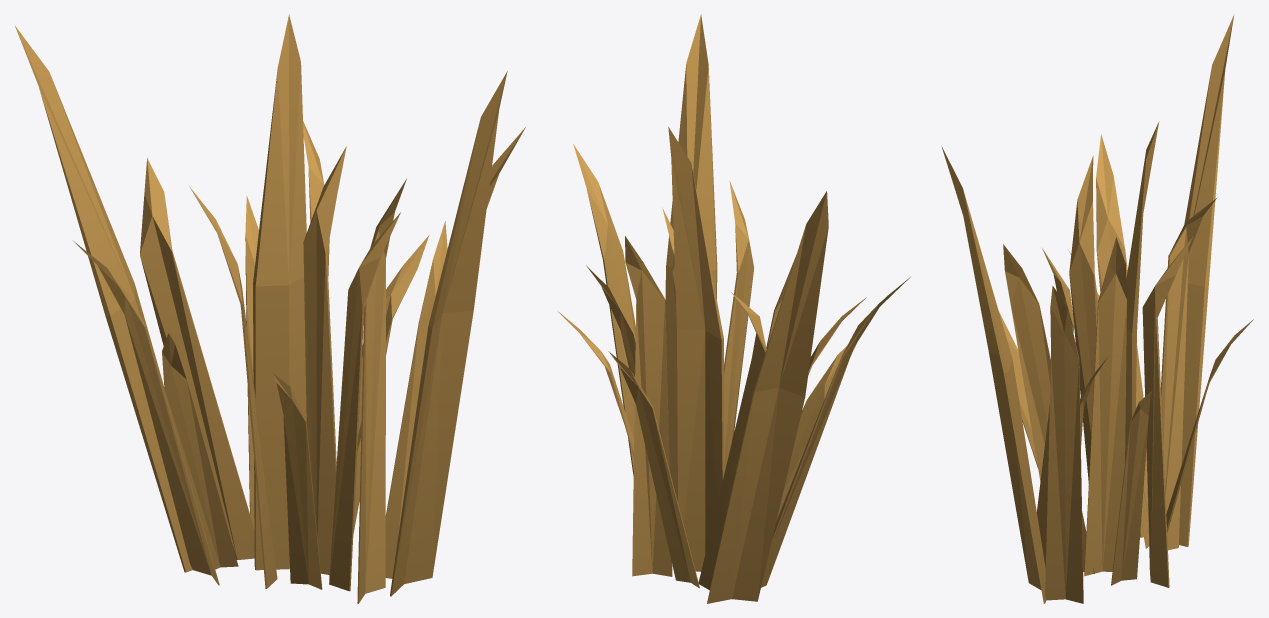
Rendered from Env_Grass_Patch_Yellow_04.obj.
3 renders of one model, left to right at view 1: azimuth 30°, elevation 25°; view 2: azimuth 150°, elevation 25°; view 3: azimuth 270°, elevation 25°, orthographic. The views are drawn at different scales.
Parts seen in each view (by area): view 1: Env_Grass_Patch_Yellow_04; view 2: Env_Grass_Patch_Yellow_04; view 3: Env_Grass_Patch_Yellow_04.
Boxes of the visible parts, left/top/right/bottom form: Env_Grass_Patch_Yellow_04: left=15, top=14, right=525, bottom=603; Env_Grass_Patch_Yellow_04: left=558, top=14, right=910, bottom=603; Env_Grass_Patch_Yellow_04: left=941, top=14, right=1253, bottom=603.
Size of the model in its own units: 0.45 by 0.5523 by 0.3376.
1 material, 1 textured.
